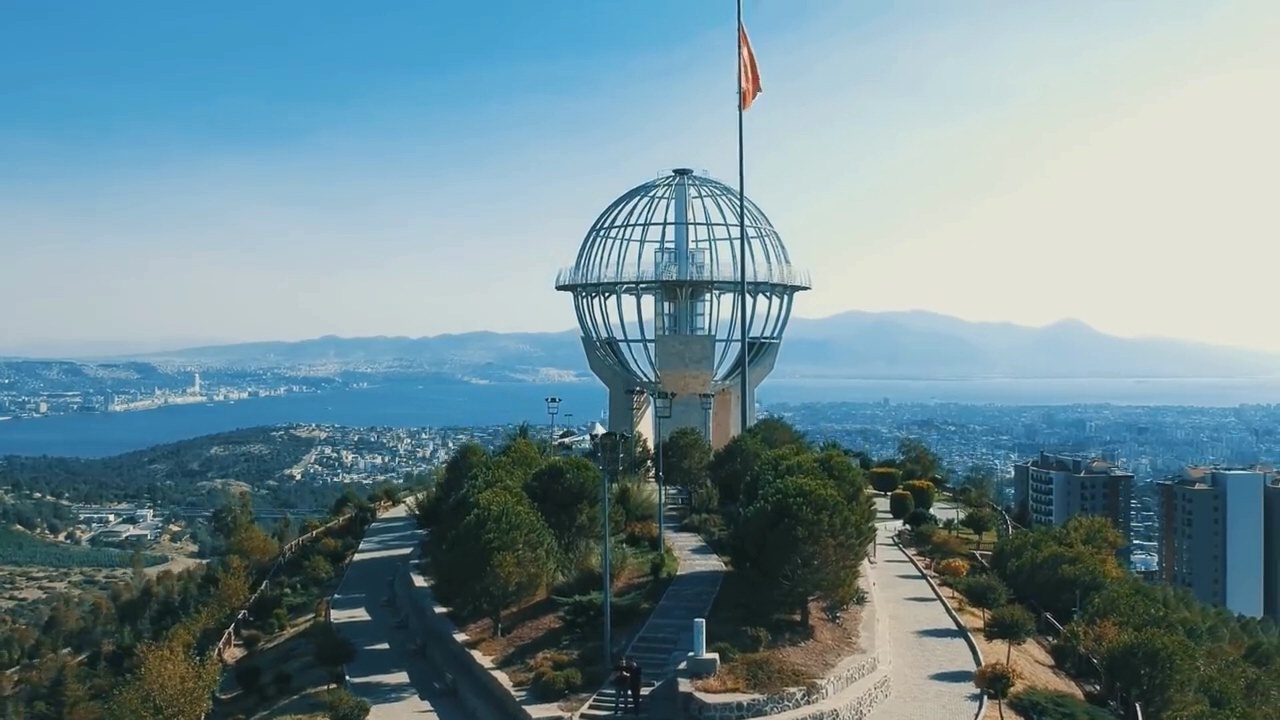insan: (630, 655, 648, 718), (612, 658, 627, 717)
